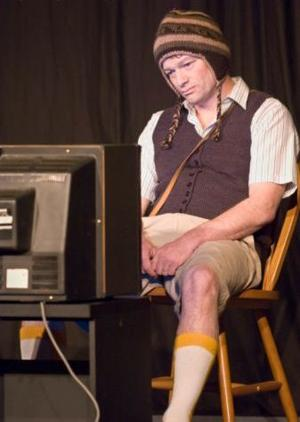person: (136, 33, 298, 422)
